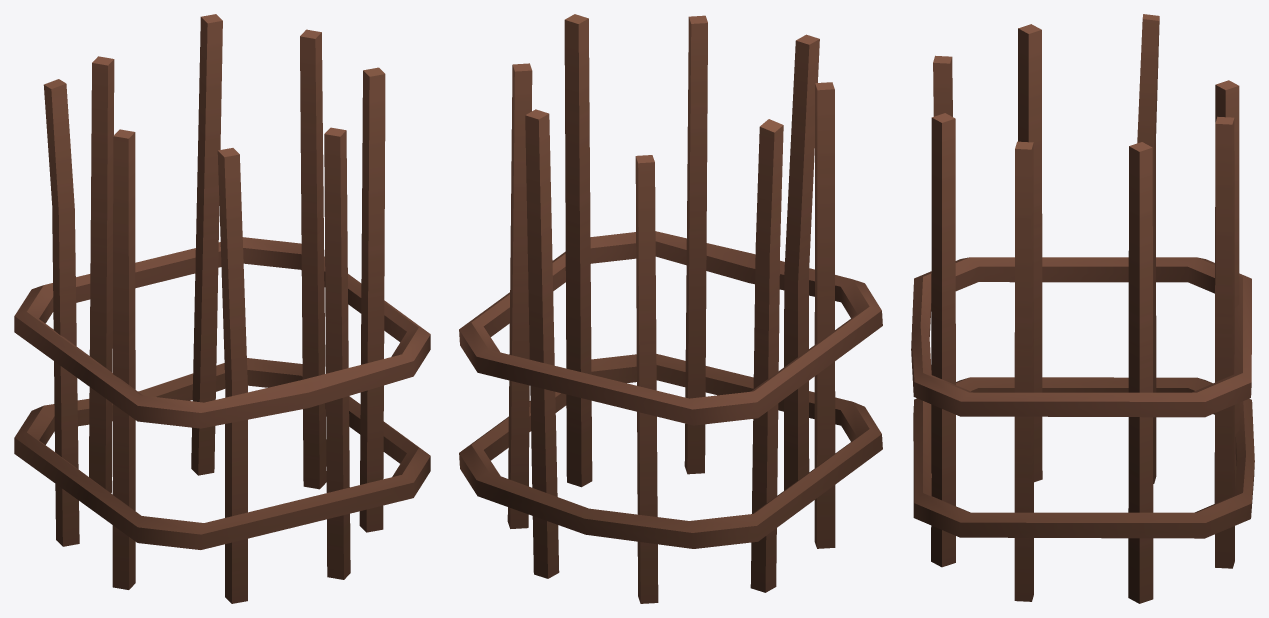
File: RreinforcingBars_A_1.obj
3 renders of one model, left to right at view 1: azimuth 30°, elevation 25°; view 2: azimuth 150°, elevation 25°; view 3: azimuth 270°, elevation 25°, orthographic.
Visible parts, largest first — view 1: RreinforcingBars_A_1; view 2: RreinforcingBars_A_1; view 3: RreinforcingBars_A_1.
Boxes of the visible parts, x1,y1,x2,y2 form: RreinforcingBars_A_1: (14, 14, 430, 603); RreinforcingBars_A_1: (459, 14, 882, 603); RreinforcingBars_A_1: (911, 14, 1254, 603).
Size of the model in its own units: 0.4253 by 0.6364 by 0.4318.
